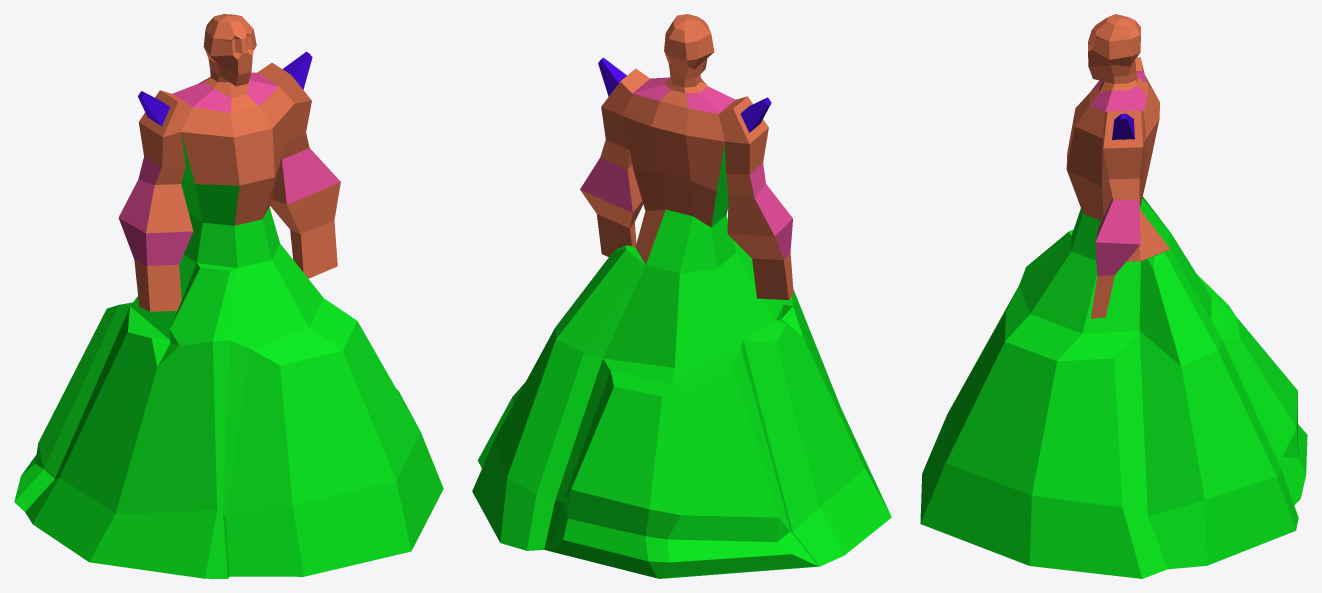
File: rock man.fbx
3 views of the same model, side by side, from view 1: azimuth 30°, elevation 25°; view 2: azimuth 150°, elevation 25°; view 3: azimuth 270°, elevation 25° (orthographic). The views are drawn at different scales.
Parts seen in each view (by area): view 1: Sphere; view 2: Sphere; view 3: Sphere.
Part boxes in pixels (box(x1,y1,x2,y2)): Sphere: box(14, 14, 443, 578); Sphere: box(472, 14, 891, 578); Sphere: box(920, 14, 1307, 578).
Size of the model in its own units: 401 by 494 by 370.
